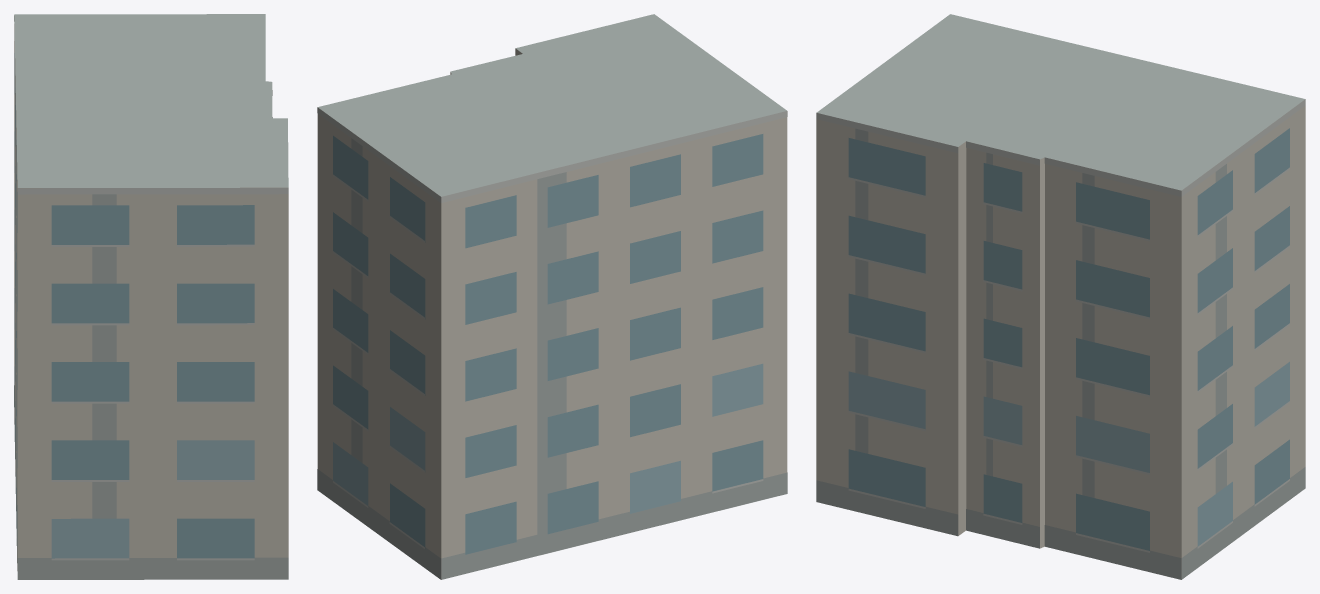
File: survey-upis-32631097.glb
3 views of the same model, side by side, from view 1: azimuth 30°, elevation 25°; view 2: azimuth 150°, elevation 25°; view 3: azimuth 270°, elevation 25° (orthographic). The views are drawn at different scales.
Visible parts, largest first — view 1: survey-upis-32631097.tmp; view 2: survey-upis-32631097.tmp; view 3: survey-upis-32631097.tmp.
Part boxes in pixels (x1,y1,x2,y2): survey-upis-32631097.tmp: (14,14,288,579); survey-upis-32631097.tmp: (317,14,787,579); survey-upis-32631097.tmp: (816,14,1305,579).
Size of the model in its own units: 14.51 by 14.9 by 16.98.
